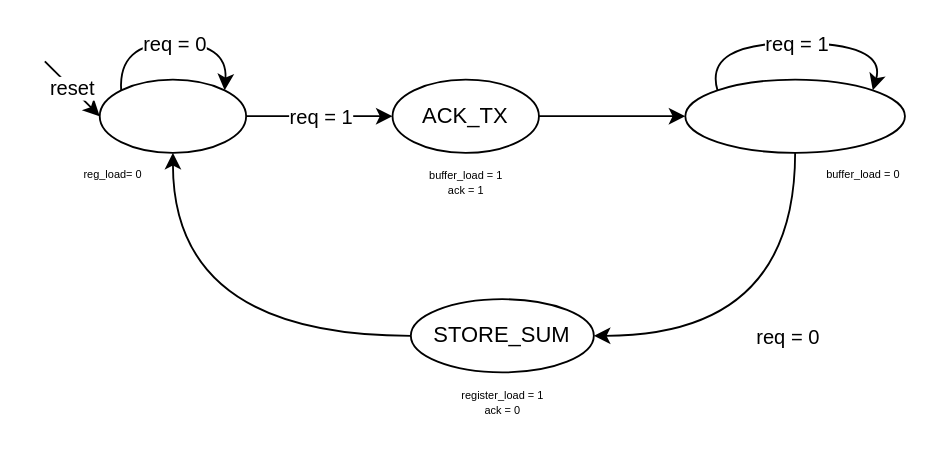
Image size: 946x458. Some labels were removed from this diagram. Here are the shapes that lost their labels. From the top down, the centre of each, then its label:
pixel 172 115: WAIT_REQ
pixel 794 115: WAIT_NO_REQ
